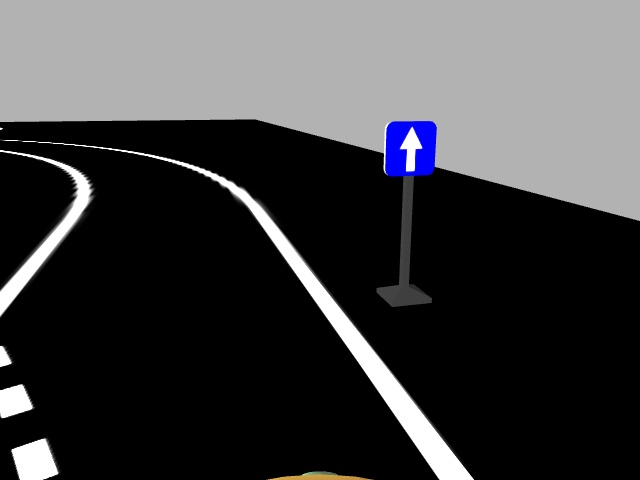OneWay: (382, 119, 434, 172)
